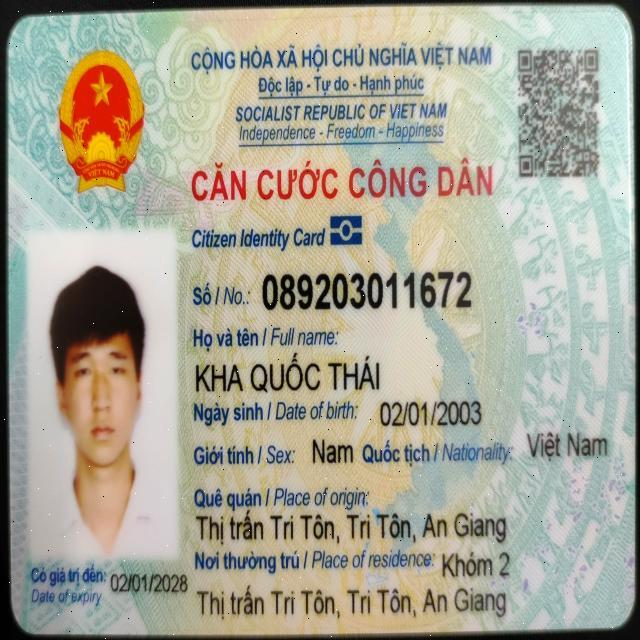current_place: (197, 582, 508, 621), (438, 543, 520, 582)
dob: (375, 392, 490, 435)
expire_date: (109, 571, 188, 600)
gender: (310, 436, 355, 470)
id: (261, 266, 472, 316)
name: (190, 350, 382, 402)
nationality: (524, 428, 610, 463)
origin_place: (190, 510, 512, 546)
qr: (508, 37, 610, 192)
